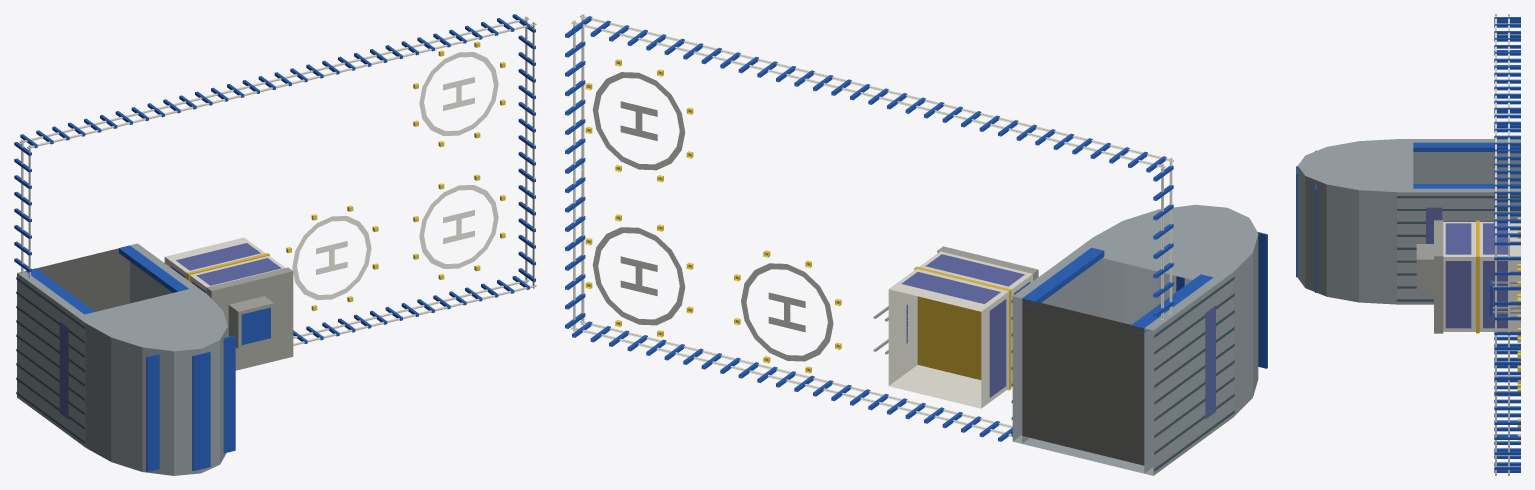
3 views of the same model, side by side, from view 1: azimuth 30°, elevation 25°; view 2: azimuth 150°, elevation 25°; view 3: azimuth 270°, elevation 25° (orthographic). The views are drawn at different scales.
Parts seen in each view (by area): view 1: t0_0_g24, t1_0_g64, t3_0_g67, t3_1_g66, t2_0_g68, t0_1_g70, t1_1_g65, t2_1_g65; view 2: t0_0_g24, t1_0_g64, t3_0_g67, t3_1_g66, t2_0_g68, t0_1_g70, t2_1_g65, t1_1_g65; view 3: t0_0_g24, t1_0_g64, t3_1_g66, t3_0_g67, t0_1_g70, t1_1_g65, t2_1_g65, t2_0_g68.
Boxes of the visible parts, <box> form: t0_0_g24: <box>16,243,235,475</box>; t1_0_g64: <box>164,237,293,370</box>; t3_0_g67: <box>401,150,536,317</box>; t3_1_g66: <box>401,14,536,155</box>; t2_0_g68: <box>286,205,409,345</box>; t0_1_g70: <box>14,107,155,278</box>; t1_1_g65: <box>147,76,282,117</box>; t2_1_g65: <box>274,45,409,86</box>; t0_0_g24: <box>1011,204,1267,475</box>; t1_0_g64: <box>867,246,1038,441</box>; t3_0_g67: <box>565,169,728,369</box>; t3_1_g66: <box>565,14,728,182</box>; t2_0_g68: <box>719,250,876,405</box>; t0_1_g70: <box>1016,124,1173,319</box>; t2_1_g65: <box>719,51,877,100</box>; t1_1_g65: <box>867,87,1025,136</box>; t0_0_g24: <box>1296,139,1520,304</box>; t1_0_g64: <box>1416,220,1520,361</box>; t3_1_g66: <box>1494,182,1520,355</box>; t3_0_g67: <box>1494,337,1520,475</box>; t0_1_g70: <box>1494,14,1520,128</box>; t1_1_g65: <box>1494,70,1520,126</box>; t2_1_g65: <box>1494,126,1520,182</box>; t2_0_g68: <box>1494,281,1520,417</box>.
Size of the model in its own units: 64 by 32 by 27.2.
